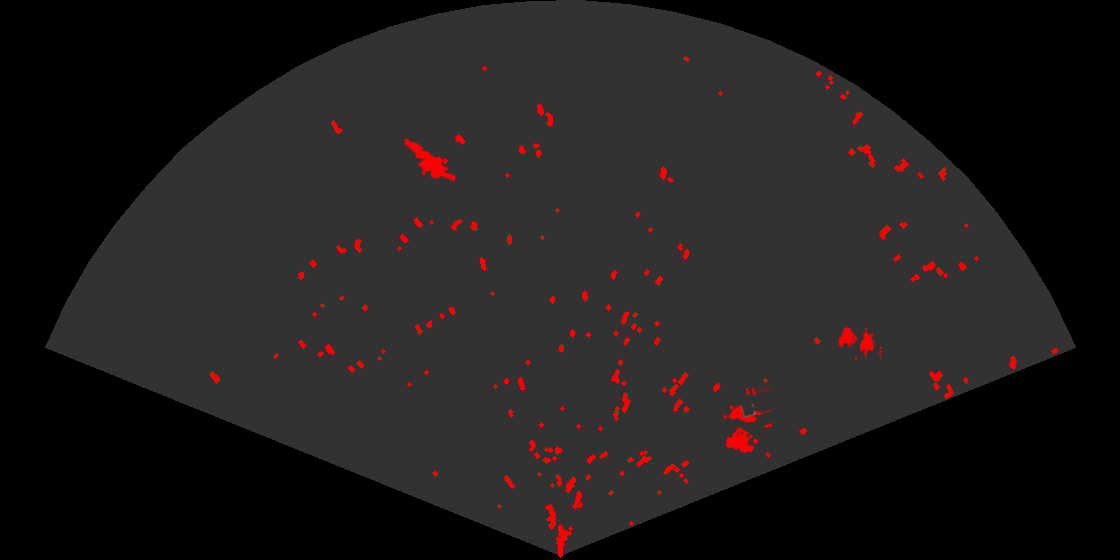cage: (721, 388, 772, 455), (836, 325, 882, 360)
frogman: (402, 137, 455, 183)
